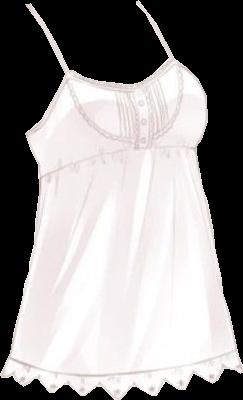Bodice: (0, 0, 242, 399)
Neckline: (28, 0, 169, 86), (38, 142, 199, 179)
Waistline: (0, 366, 242, 399)
